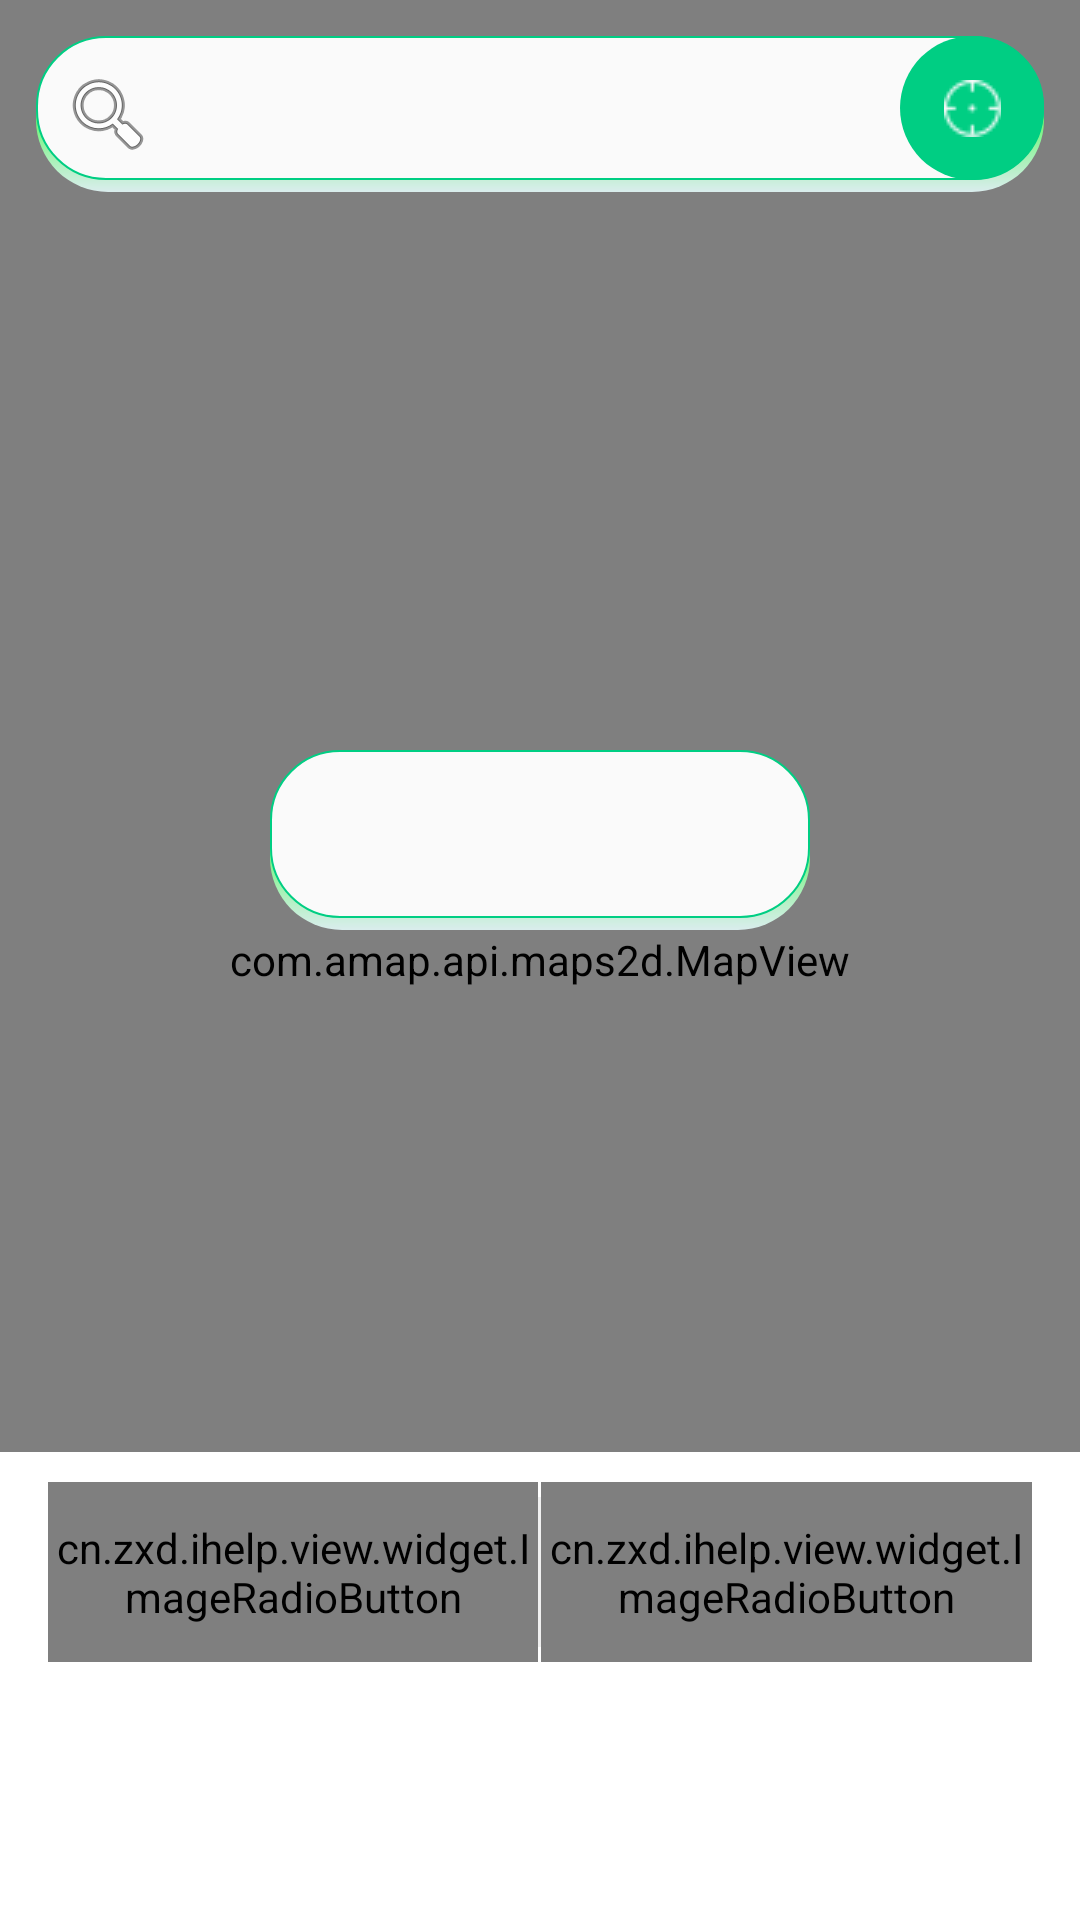

Icons on this 1080 x 1920 Android screen, each with the point to tap as (x,y):
location: (972,108)
